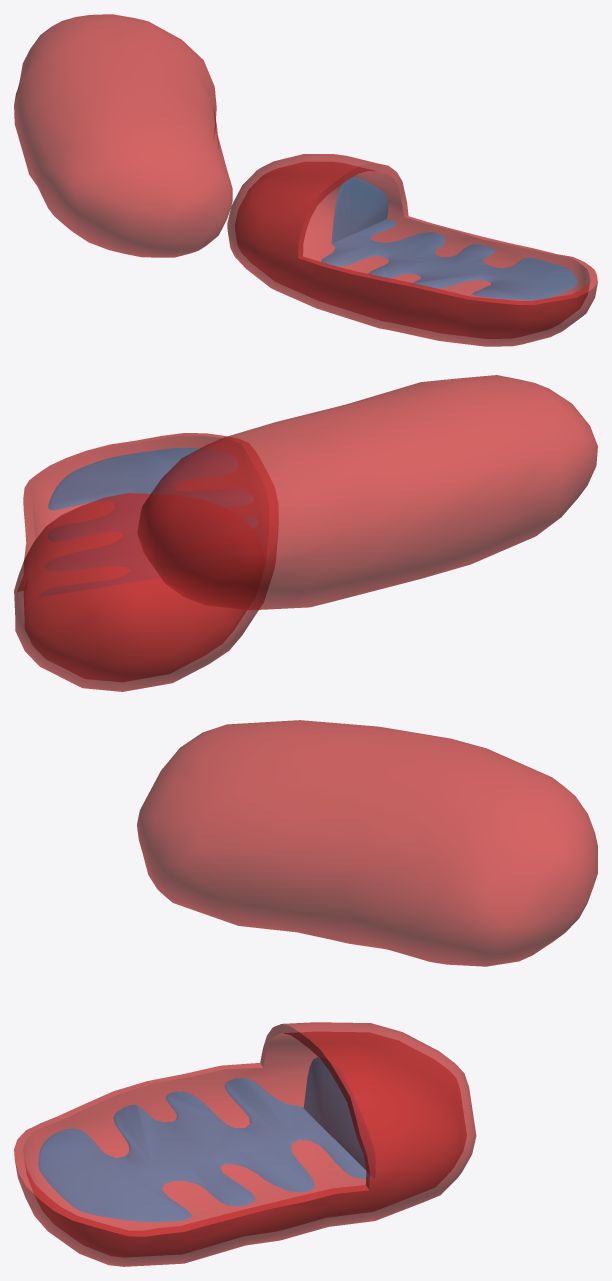
File: mitochondria-closed.web.glb
3 views of the same model, one above another, from view 1: azimuth 30°, elevation 25°; view 2: azimuth 150°, elevation 25°; view 3: azimuth 270°, elevation 25° (orthographic). The views are drawn at different scales.
Visible parts, largest first — view 1: Transparent structures_0; view 2: Transparent structures_0; view 3: Transparent structures_0.
Part boxes in pixels (<box>): Transparent structures_0: <box>14,14,597,346</box>; Transparent structures_0: <box>14,375,597,691</box>; Transparent structures_0: <box>14,720,597,1266</box>.
Bounding box in the file's own units: 0.7298 × 0.3931 × 0.6224.
1 material, 1 textured.
